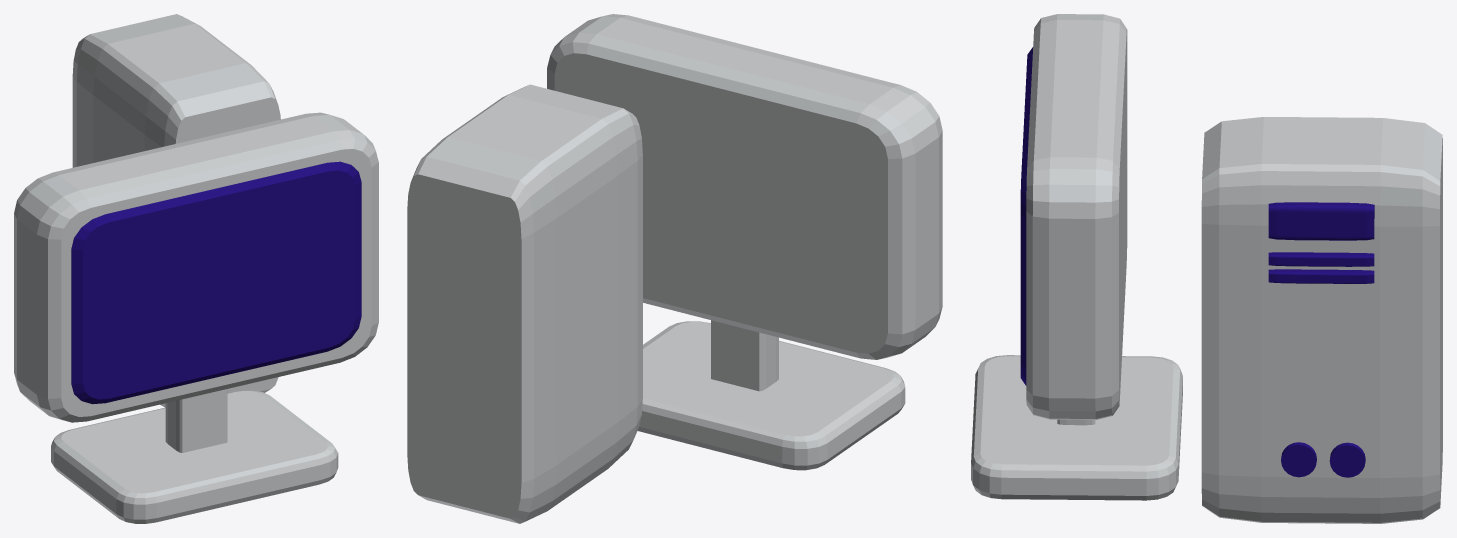
File: pc_android.glb
The picture shows the model from 3 angles, left to right: view 1: azimuth 30°, elevation 25°; view 2: azimuth 150°, elevation 25°; view 3: azimuth 270°, elevation 25°; orthographic projection. The views are drawn at different scales.
Visible parts, largest first — view 1: geo_pc (×2); view 2: geo_pc; view 3: geo_pc (×2).
Boxes of the visible parts, box(x1,y1,x2,y2) form: geo_pc (×2): box(14, 14, 378, 523); geo_pc: box(407, 14, 942, 523); geo_pc (×2): box(971, 14, 1442, 523).
Size of the model in its own units: 0.1669 by 0.1533 by 0.1812.
Materials: 2 (2 with a texture image).
